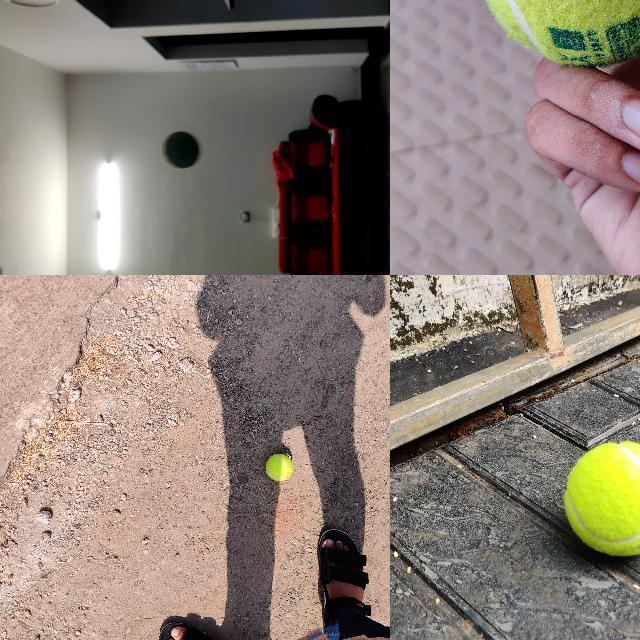tennis-ball: (472, 0, 639, 69), (562, 440, 639, 557), (162, 131, 201, 169), (266, 454, 293, 481)
